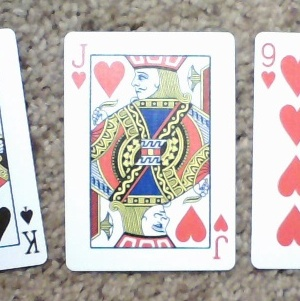card: (62, 29, 237, 272)
